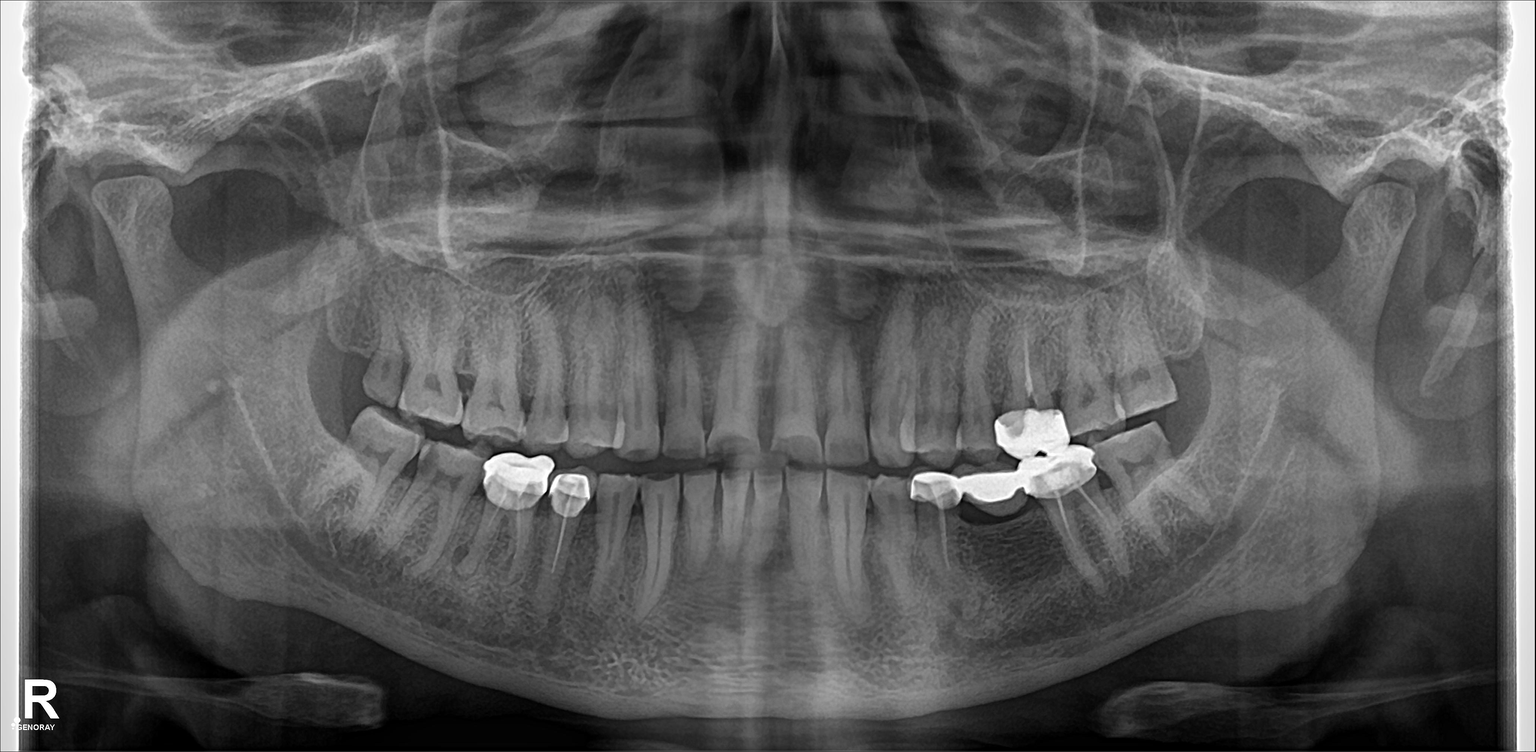Endodontically Treated Tooth: (1041, 460, 1119, 606), (993, 307, 1059, 453), (967, 471, 1034, 591), (482, 456, 539, 590), (538, 477, 587, 578), (916, 486, 955, 602)
Missing Tooth: (1149, 272, 1213, 392), (313, 277, 375, 387)
